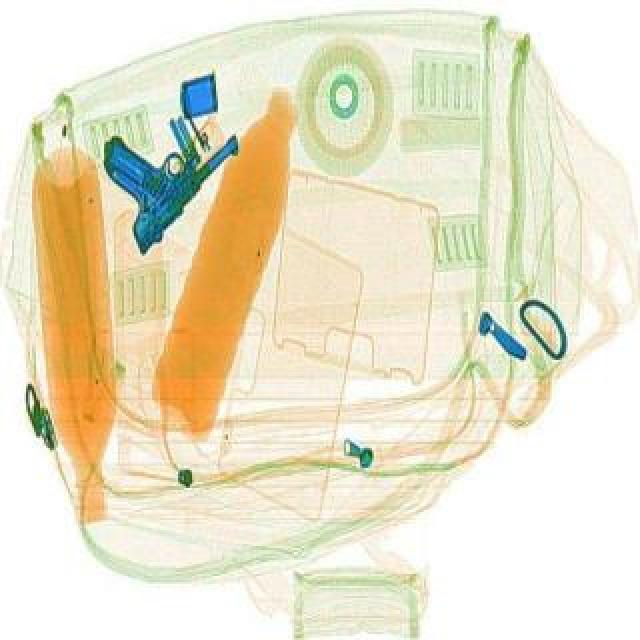gun: (64, 78, 256, 252)
